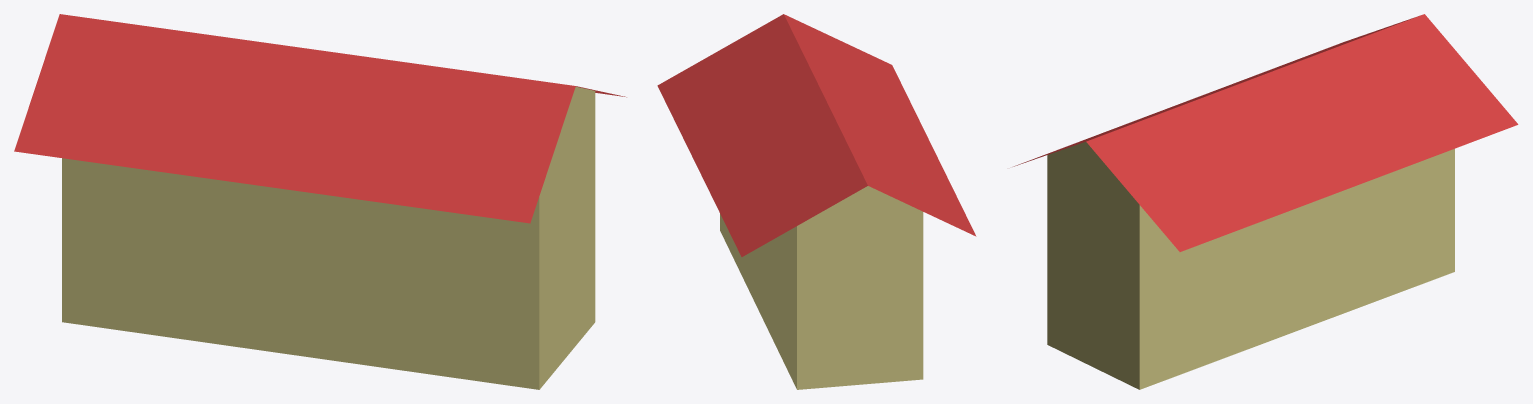
The picture shows the model from 3 angles, left to right: view 1: azimuth 30°, elevation 25°; view 2: azimuth 150°, elevation 25°; view 3: azimuth 270°, elevation 25°; orthographic projection. The views are drawn at different scales.
Size of the model in its own units: 21.45 by 22.12 by 10.81.
